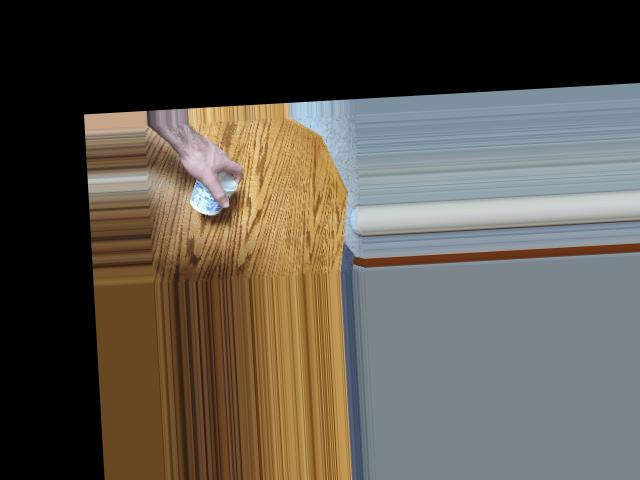cotage: (182, 171, 240, 218)
